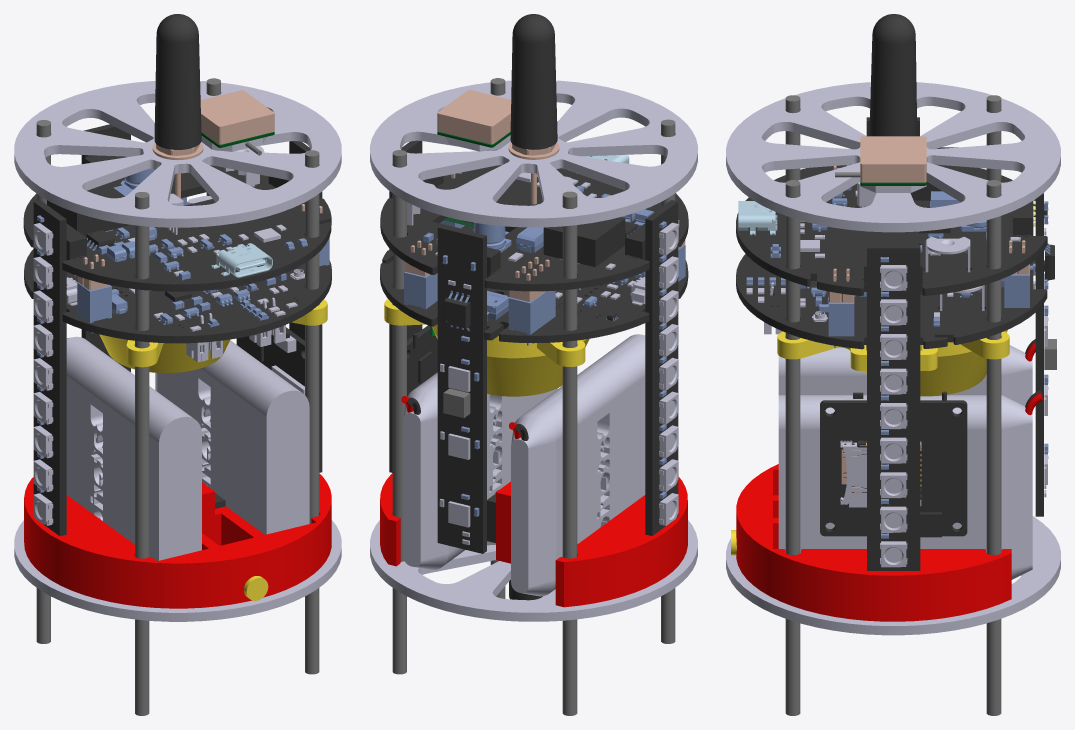
Rendered from cansat 3.0.glb.
The picture shows the model from 3 angles, left to right: view 1: azimuth 30°, elevation 25°; view 2: azimuth 150°, elevation 25°; view 3: azimuth 270°, elevation 25°; orthographic projection. The views are drawn at different scales.
Parts seen in each view (by area): view 1: Solid1 (×34); view 2: Solid1 (×38); view 3: Solid1 (×34).
Part boxes in pixels (x1,y1,x2,y2): Solid1 (×34): (14, 14, 341, 715); Solid1 (×38): (370, 14, 697, 715); Solid1 (×34): (726, 14, 1060, 715).
Bounding box in the file's own units: 0.0659 × 0.1421 × 0.0659.
